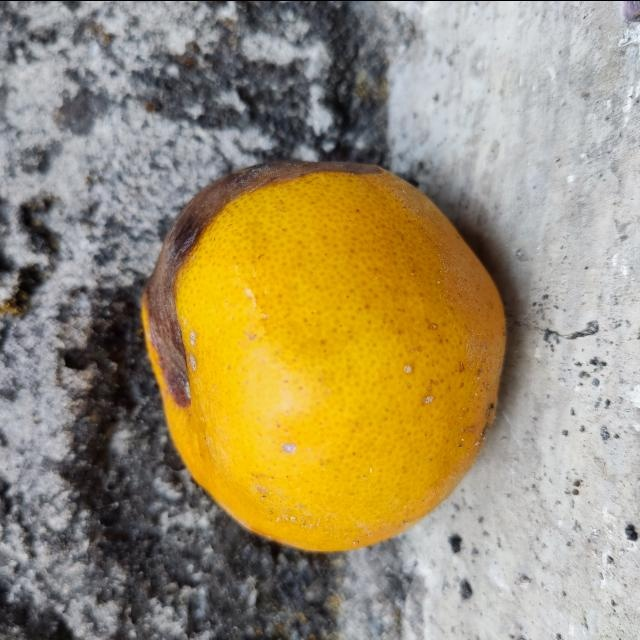agrume: (142, 156, 510, 552)
